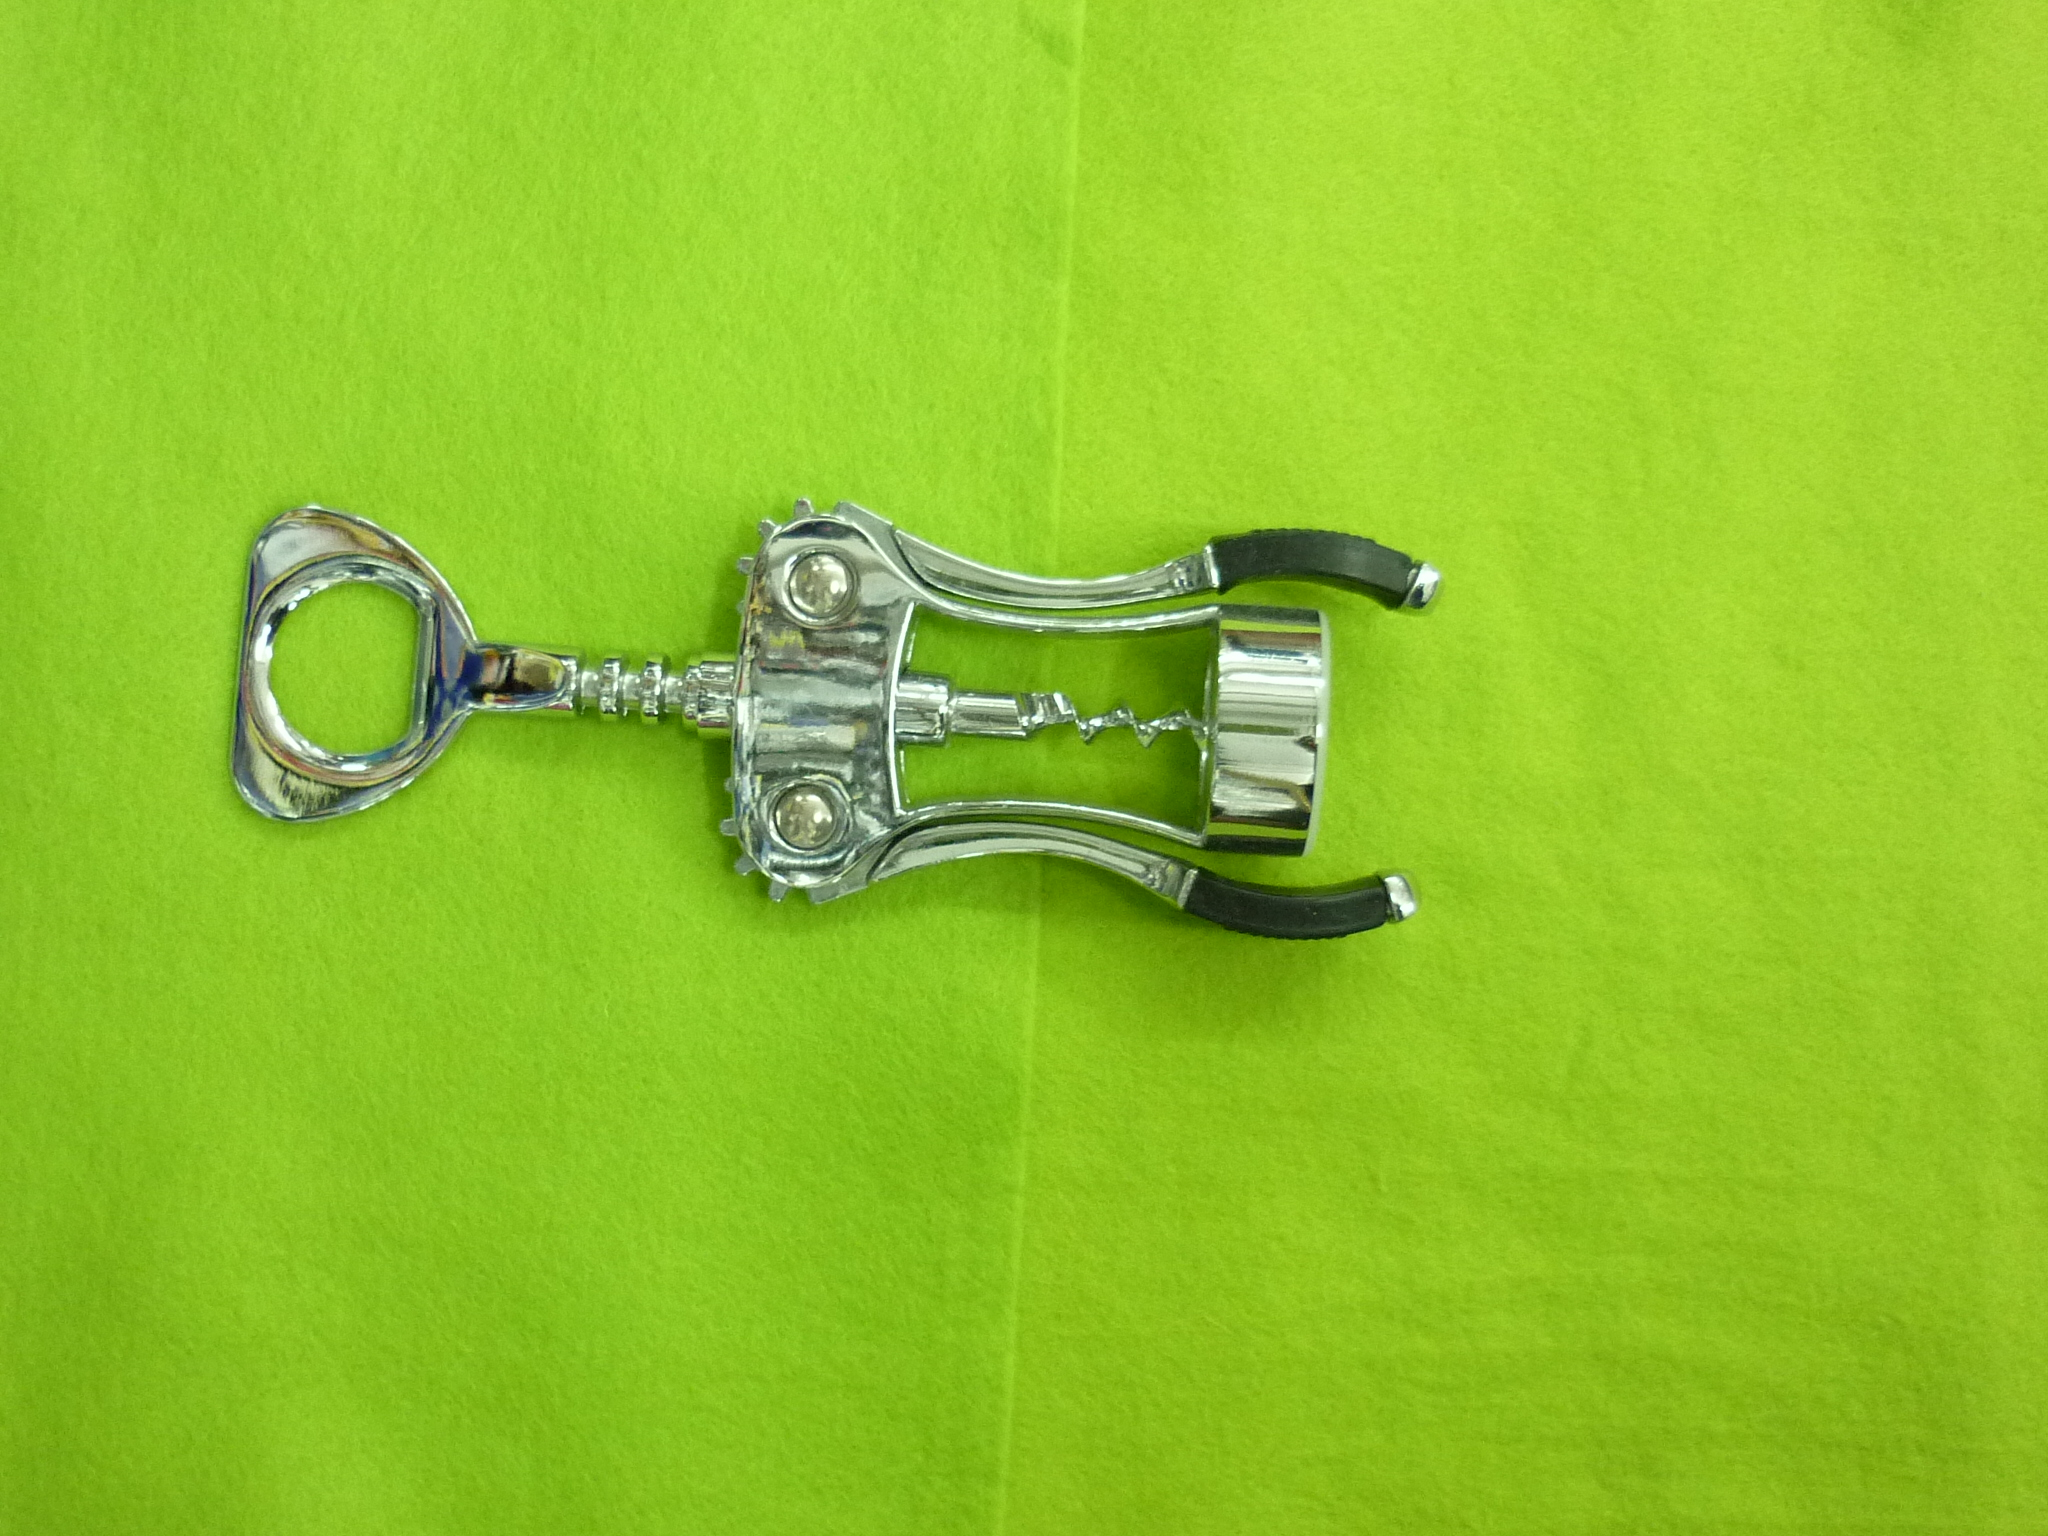bottleopener: (227, 500, 1442, 945)
